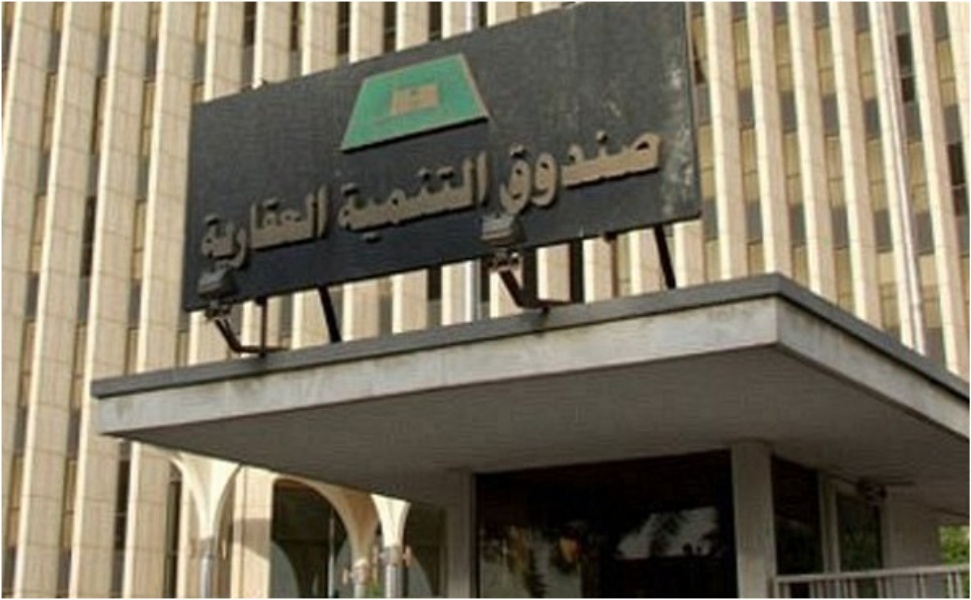text: (497, 117, 512, 224), (513, 117, 528, 224), (529, 117, 544, 224), (545, 117, 560, 224), (561, 117, 576, 224), (577, 117, 592, 224), (593, 117, 608, 224), (609, 117, 624, 224), (625, 117, 640, 224), (641, 117, 656, 224), (209, 177, 224, 279), (225, 177, 240, 279), (241, 177, 256, 279), (257, 177, 272, 279), (273, 177, 288, 279), (289, 177, 304, 279), (305, 177, 320, 279), (337, 146, 352, 247), (353, 146, 368, 247), (369, 146, 384, 247), (385, 146, 400, 247), (401, 146, 416, 247), (417, 146, 432, 247), (433, 146, 448, 247), (449, 146, 464, 247), (465, 146, 480, 247), (195, 177, 208, 279), (321, 177, 333, 279), (657, 117, 668, 224), (481, 146, 492, 247), (334, 146, 336, 247), (495, 117, 496, 224)
